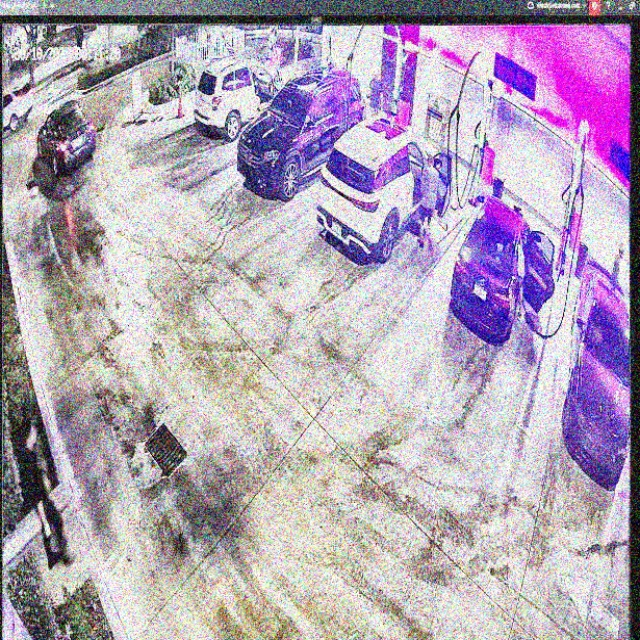Car: (317, 116, 449, 263), (238, 70, 367, 197), (449, 197, 554, 334)
